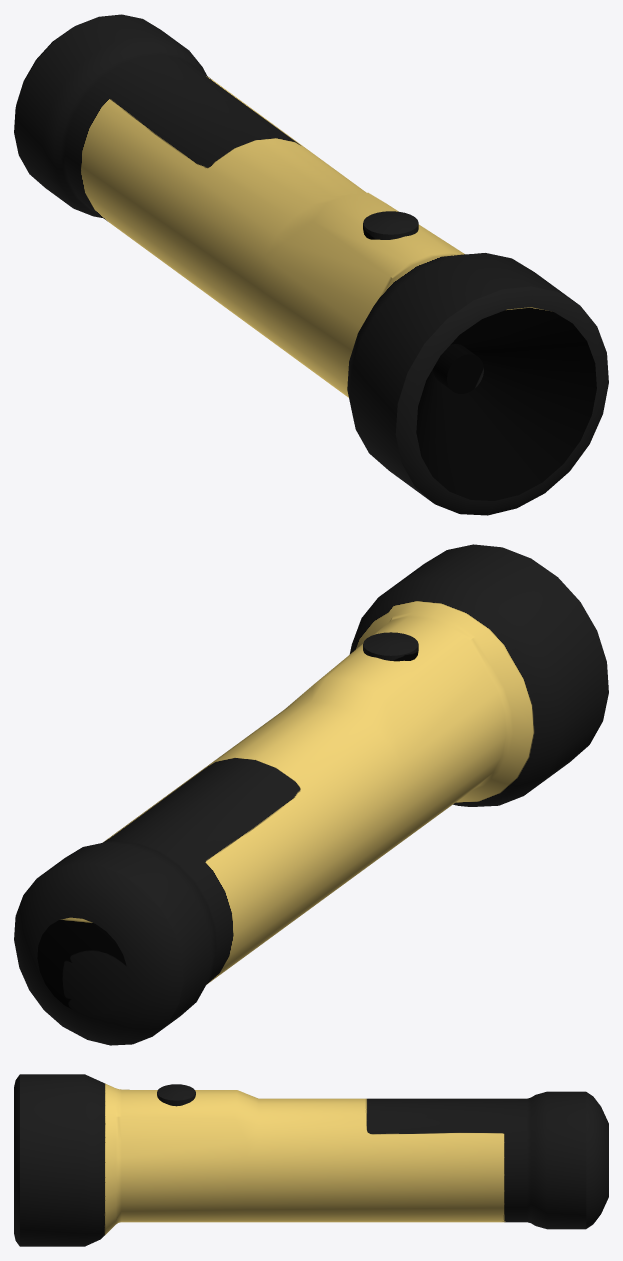
3 views of the same model, one above another, from view 1: azimuth 30°, elevation 25°; view 2: azimuth 150°, elevation 25°; view 3: azimuth 270°, elevation 25° (orthographic). The views are drawn at different scales.
Parts seen in each view (by area): view 1: flashlight_low; view 2: flashlight_low; view 3: flashlight_low.
Part boxes in pixels (<box>): flashlight_low: <box>14,14,608,515</box>; flashlight_low: <box>14,544,608,1045</box>; flashlight_low: <box>14,1074,608,1246</box>.
Bounding box in the file's own units: 0.3347 × 0.3339 × 1.15.
1 material, 1 textured.
